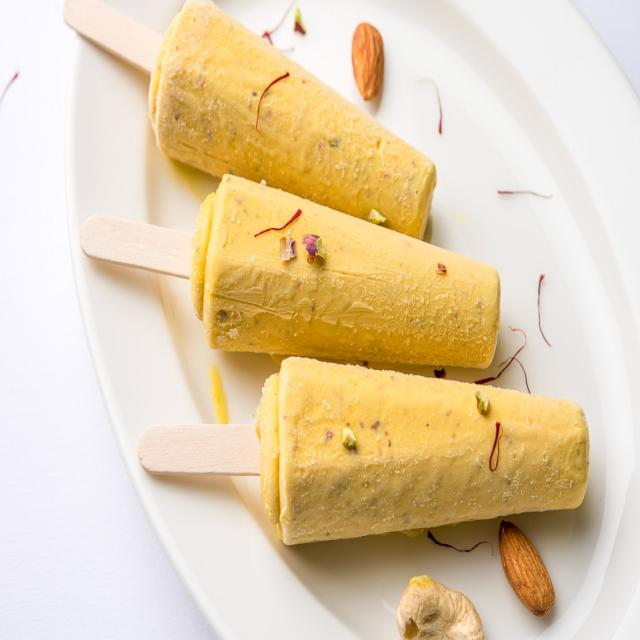kulfi: (153, 4, 608, 530)
